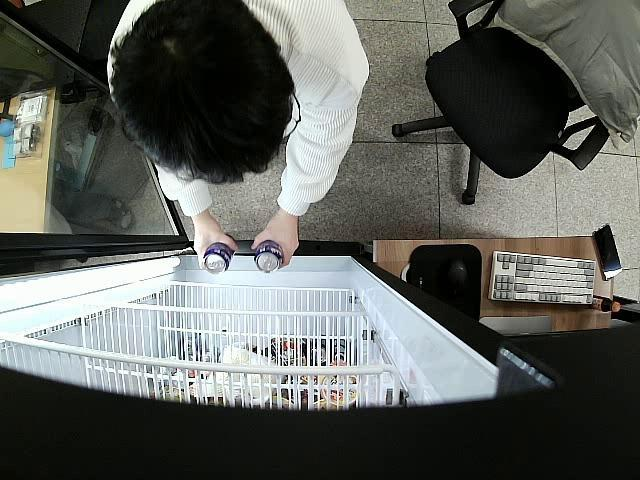14_welchsGrape: (205, 234, 236, 273), (254, 241, 283, 270)
